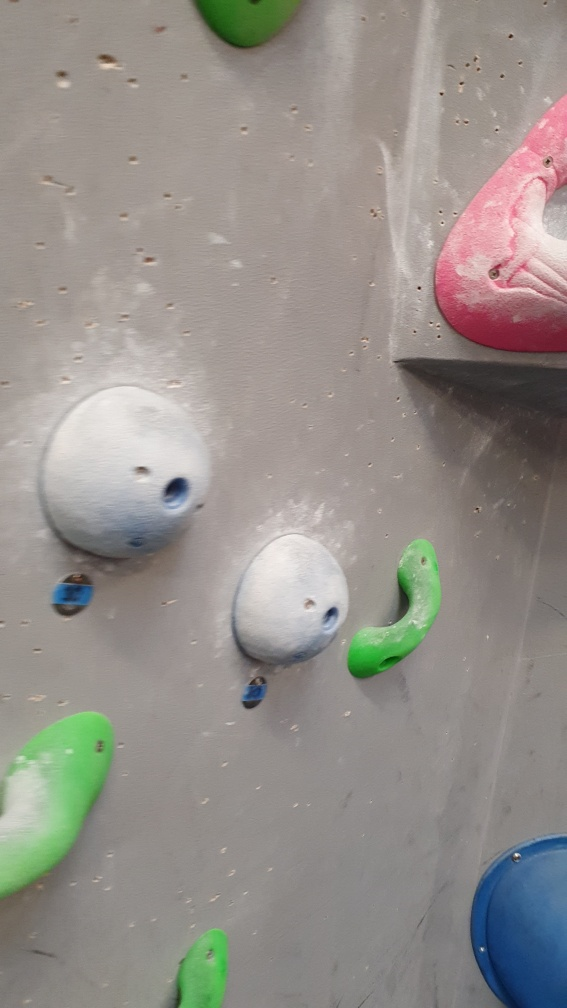Hand Start: (49, 565, 99, 622), (237, 673, 271, 711)
Pocket: (428, 89, 567, 354)
Sloper: (40, 379, 209, 562), (233, 526, 351, 669)
